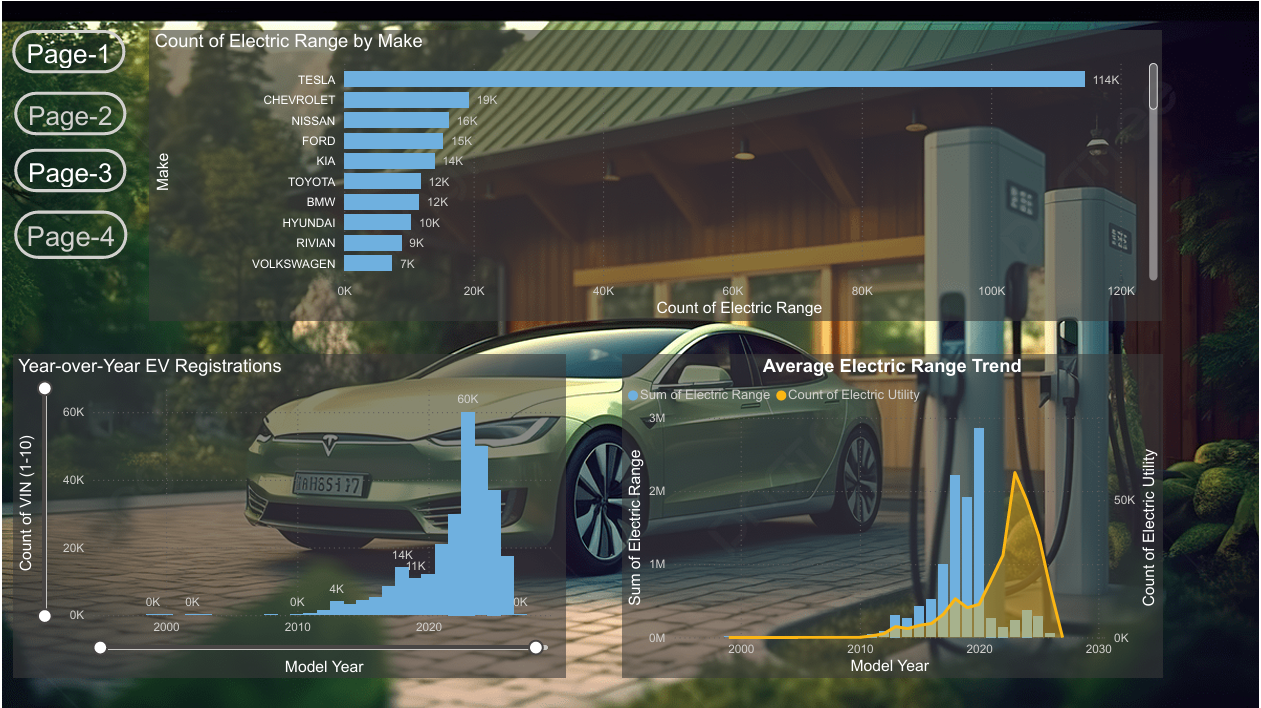

The dashboard page shown, as its layout file describes it:
{"tool":"powerbi","page":{"name":"Page 3","canvas":[1280,720],"ordinal":2},"visuals":[{"type":"barChart","fields":{"Y":["CountNonNull(cleaned_ev_data.Electric Range)"],"Category":["cleaned_ev_data.Make"]},"box":[150.4,29.1,1030.5,295.6],"z":0},{"type":"lineClusteredColumnComboChart","title":"Average Electric Range Trend","fields":{"Category":["cleaned_ev_data.Model Year"],"Y":["Sum(cleaned_ev_data.Electric Range)"],"Y2":["CountNonNull(cleaned_ev_data.Electric Utility)"]},"box":[631,360.3,550.4,329.9],"z":1000},{"type":"columnChart","title":" Year-over-Year EV Registrations","fields":{"Category":["cleaned_ev_data.Model Year"],"Y":["CountNonNull(cleaned_ev_data.VIN (1-10))"]},"box":[10.8,360.3,562.9,329.9],"z":2000},{"type":"actionButton","box":[12,150.4,114,44],"z":3000},{"type":"actionButton","box":[10.3,29.1,114.5,44],"z":4000},{"type":"actionButton","title":"Page-2","box":[12,92.3,114.5,44],"z":5000},{"type":"actionButton","box":[11.7,213.3,115,48.3],"z":6000}]}

Visuals, with their boxes in screenshot pixels (x1, y1, x2, y2), scaled from the page's 1280x720 canvas onto the 1261x708 screenshot:
barChart - CountNonNull(cleaned_ev_data.Electric Range) x cleaned_ev_data.Make: select_region(148, 29, 1163, 319)
"Average Electric Range Trend" lineClusteredColumnComboChart: select_region(622, 354, 1164, 679)
" Year-over-Year EV Registrations" columnChart: select_region(11, 354, 565, 679)
actionButton: select_region(12, 148, 124, 191)
actionButton: select_region(10, 29, 123, 72)
"Page-2" actionButton: select_region(12, 91, 125, 134)
actionButton: select_region(12, 210, 125, 257)
